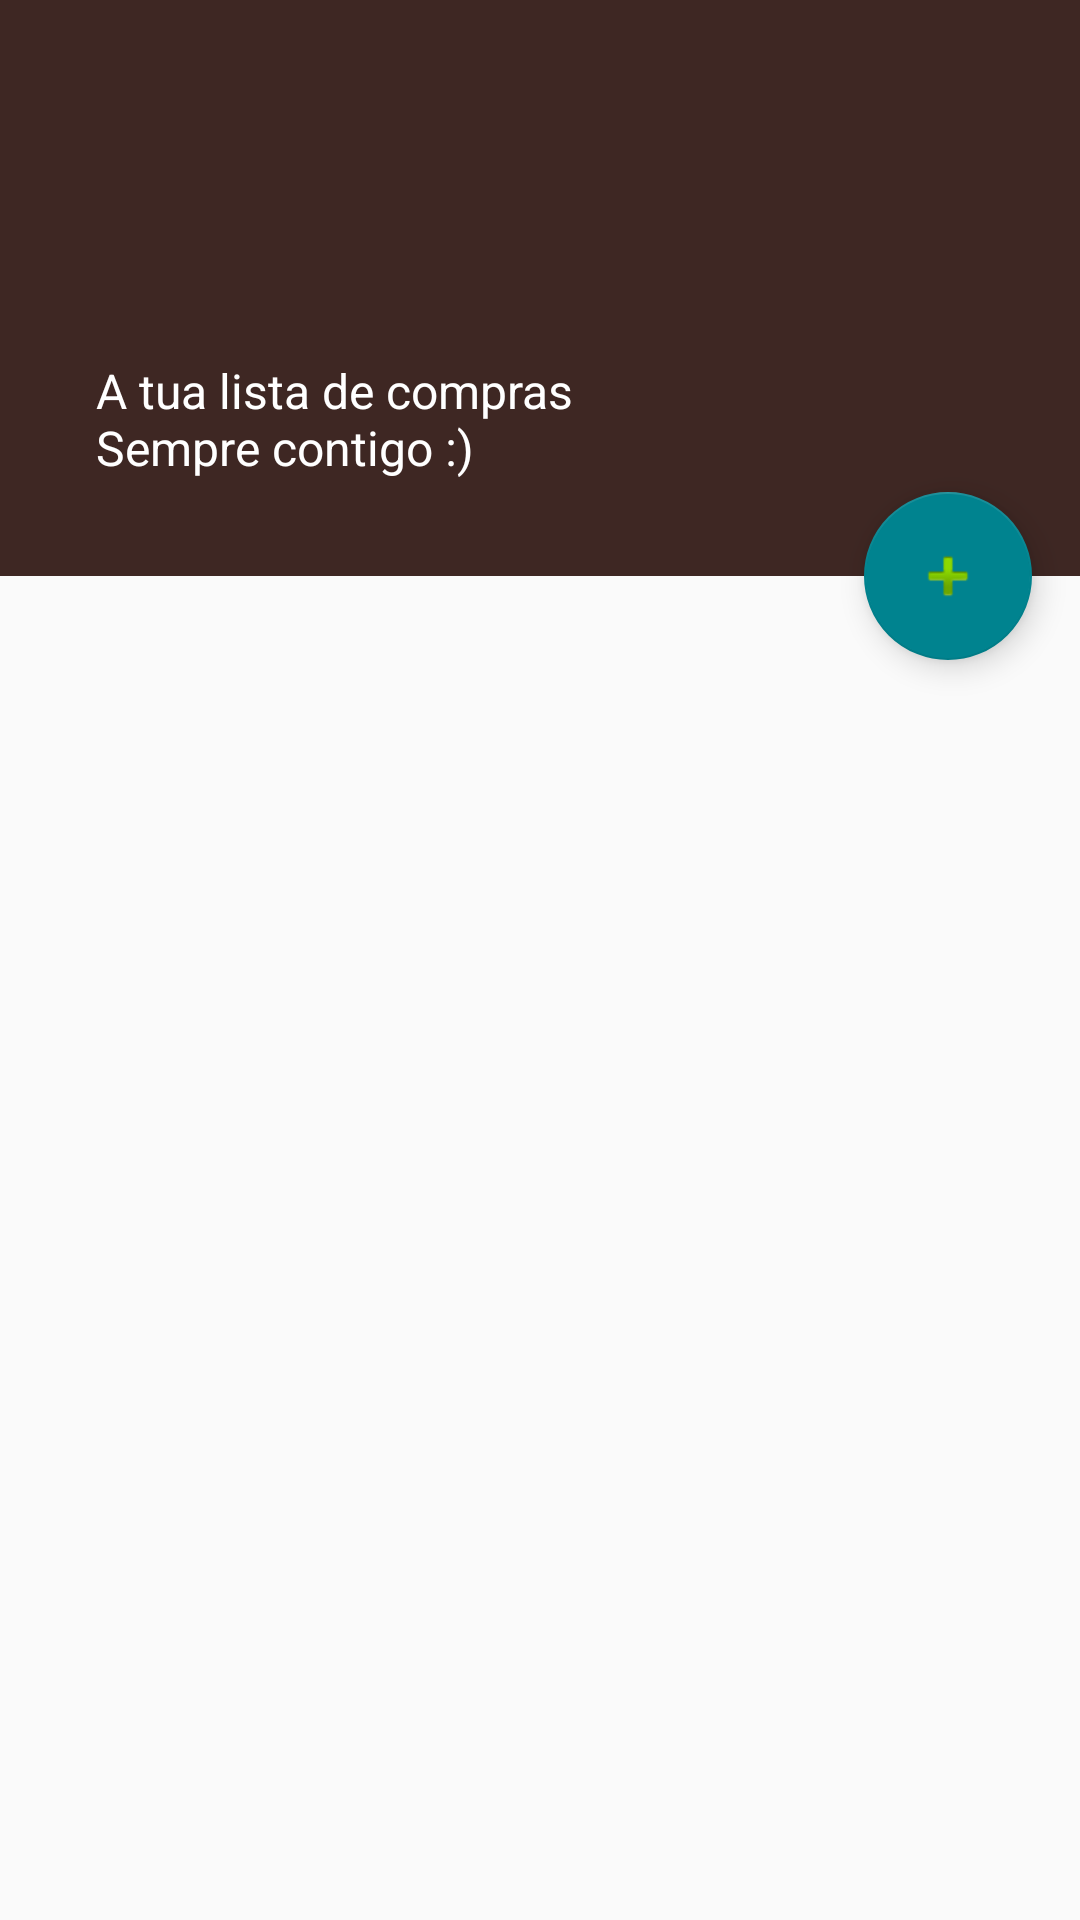

Where to tap for icons on this 1080*1920 app screen, as point (x, y):
add: point (948, 576)
